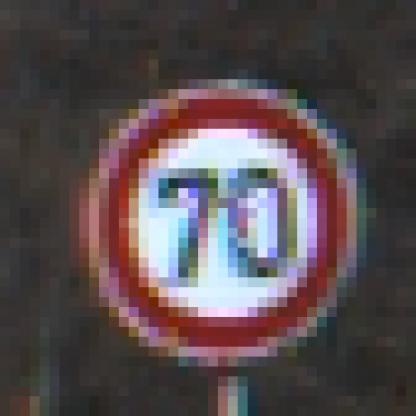Speed Limit 70: (101, 89, 350, 352)
